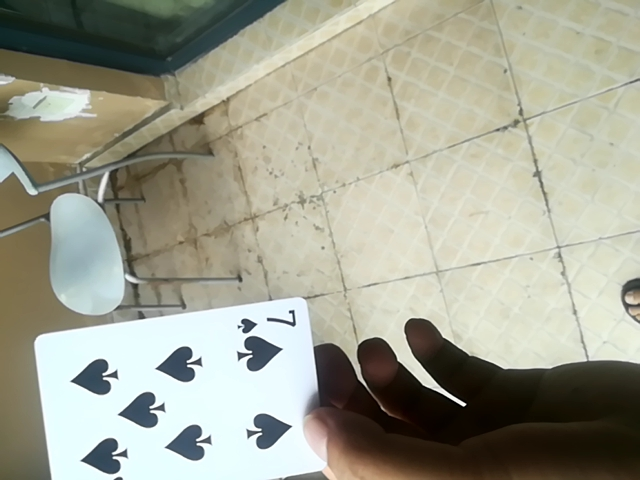ht 7: (35, 298, 322, 478)
